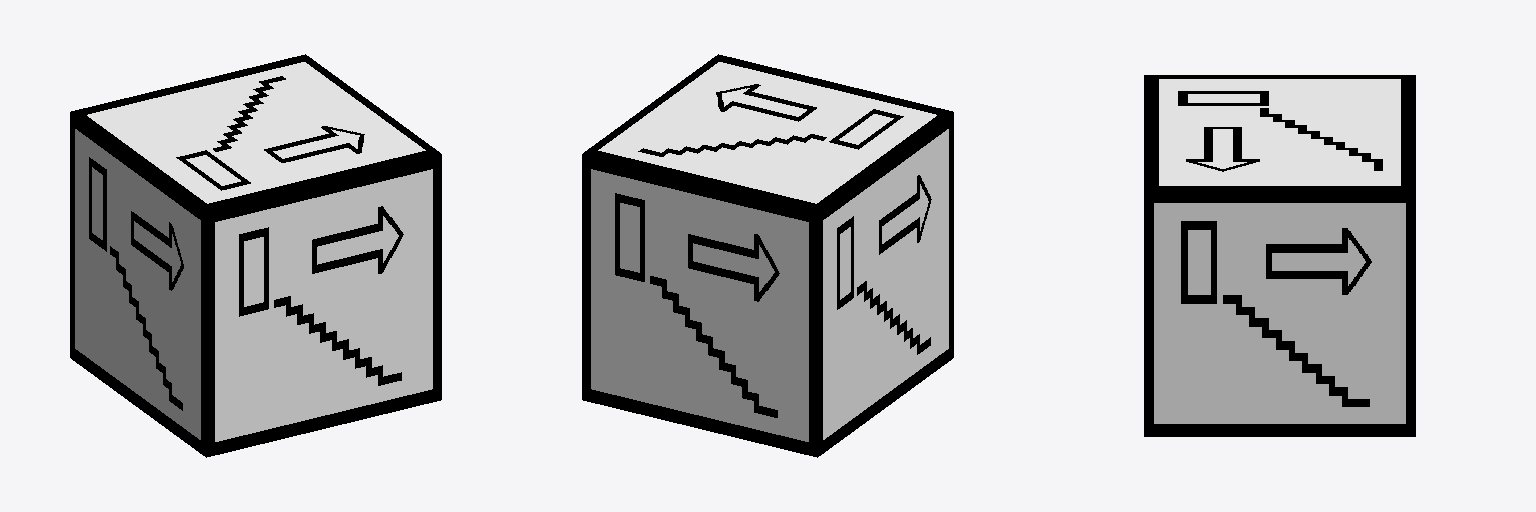
3 views of the same model, side by side, from view 1: azimuth 30°, elevation 25°; view 2: azimuth 150°, elevation 25°; view 3: azimuth 270°, elevation 25° (orthographic).
Visible parts, largest first — view 1: Box001; view 2: Box001; view 3: Box001.
Boxes of the visible parts, box(x1,y1,x2,y2) form: Box001: box(70, 54, 441, 457); Box001: box(582, 54, 953, 457); Box001: box(1144, 75, 1415, 436).
Size of the model in its own units: 1 by 1 by 1.
Materials: 1 (1 with a texture image).